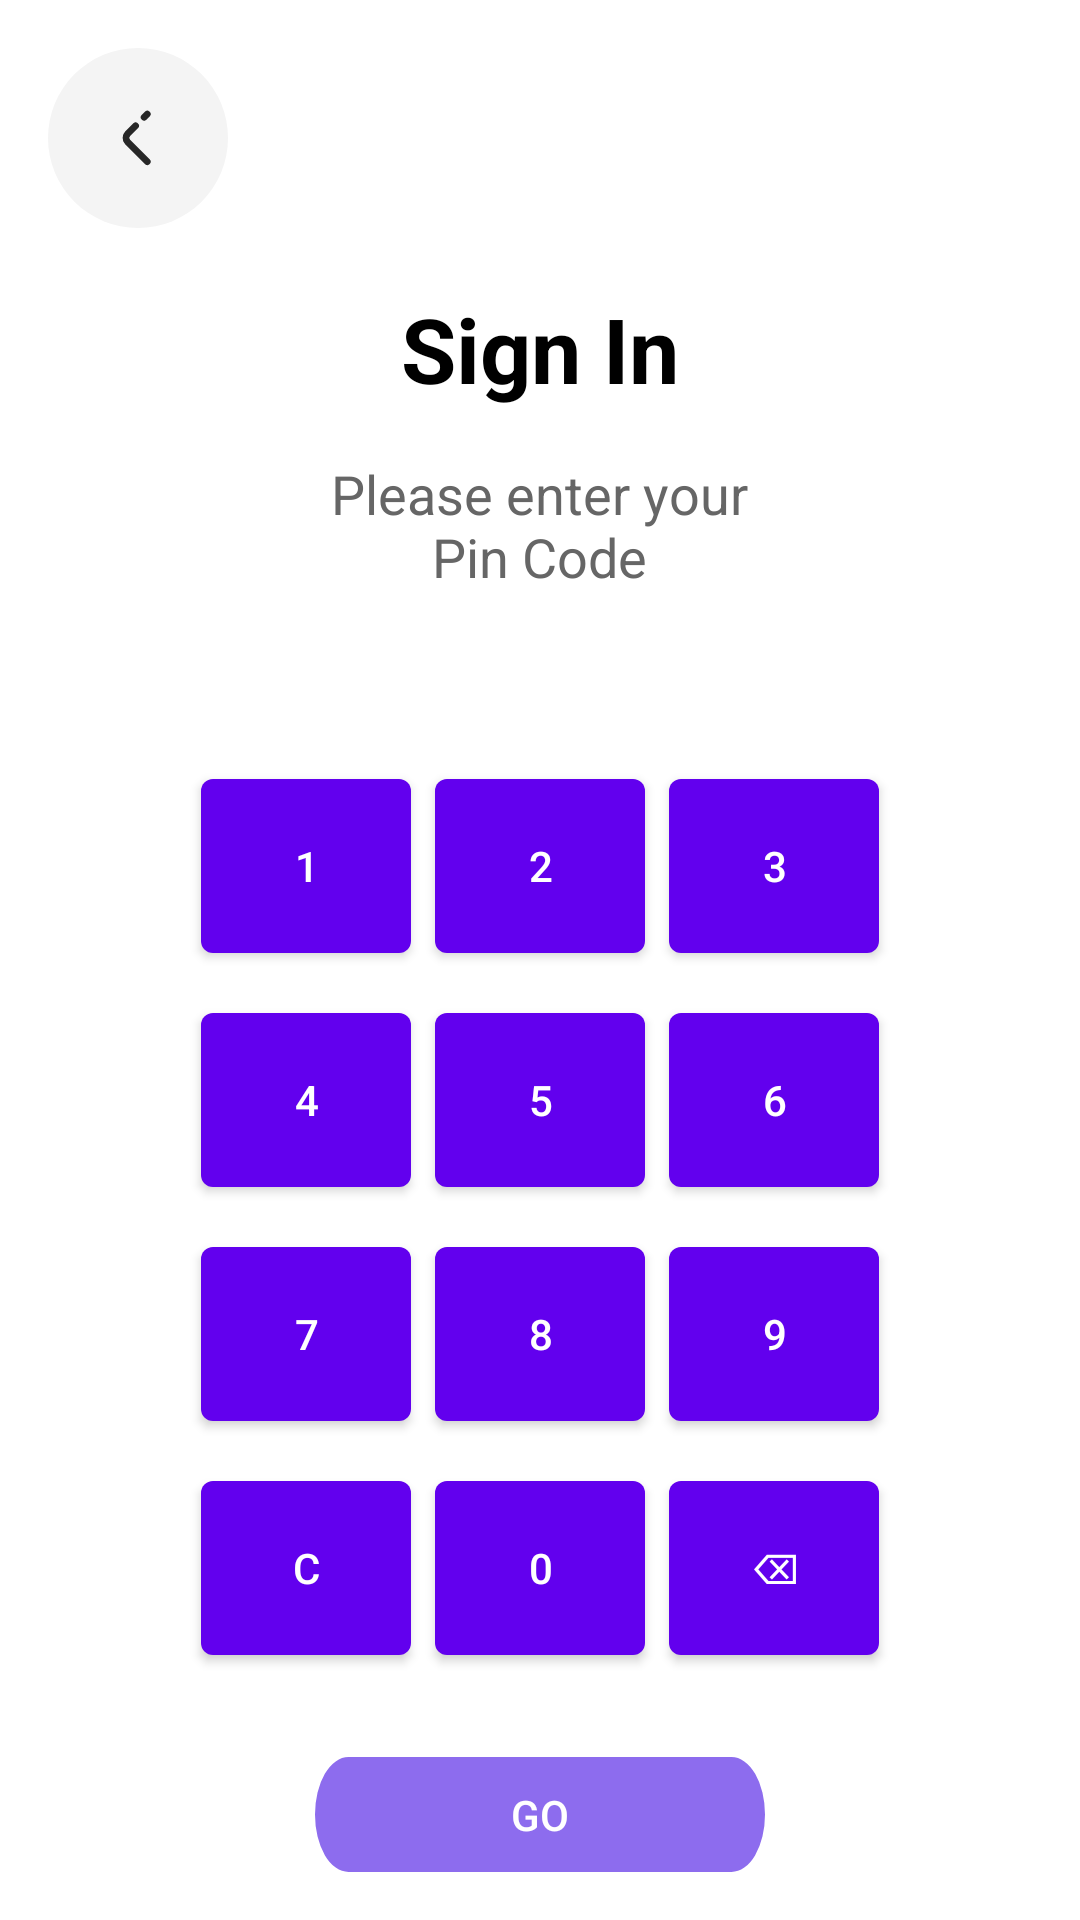

Point at icon controls on the screen. Image size 1080x1920, points as (x=x, y=y).
arrow back: (x=138, y=138)
